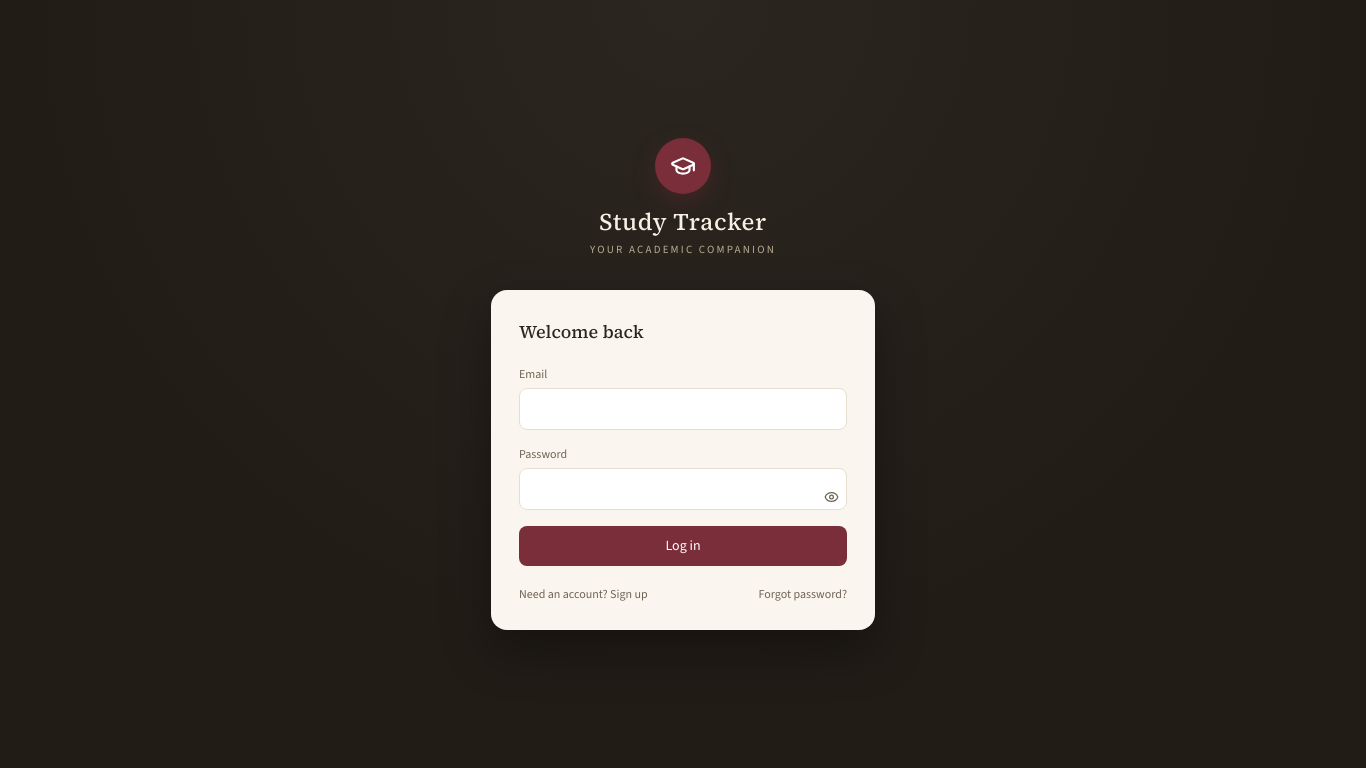
Test case: Migrated Supabase app — smoke test › a newly signed-up student is held on a pending screen until an admin assigns a department
Step 1. Click the button "Need an account? Sign up" → (583, 594), box [519,586,648,602]
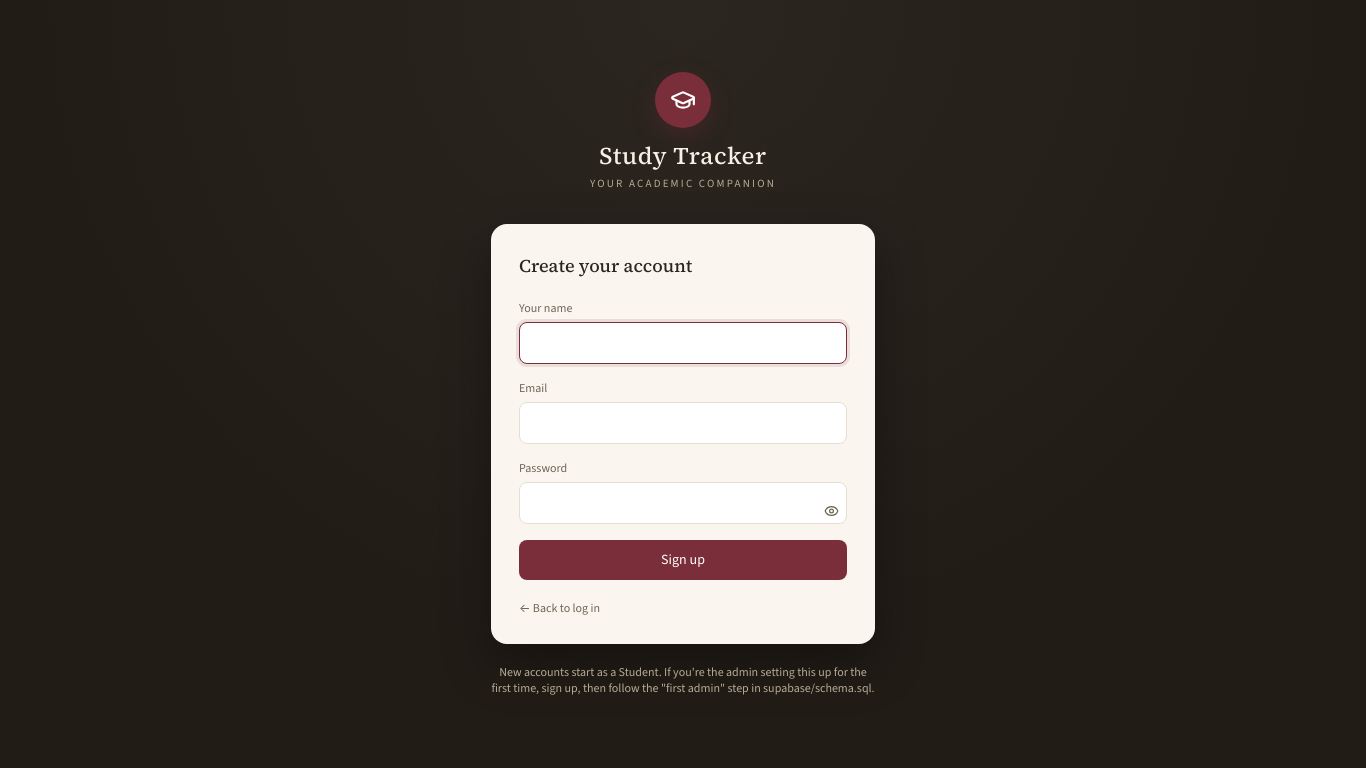
Expected: the text "Your name" is shown, [519,300,572,316]
Step 2. Type "Test Student" into the 1st field → (683, 343), box [519,322,847,364]
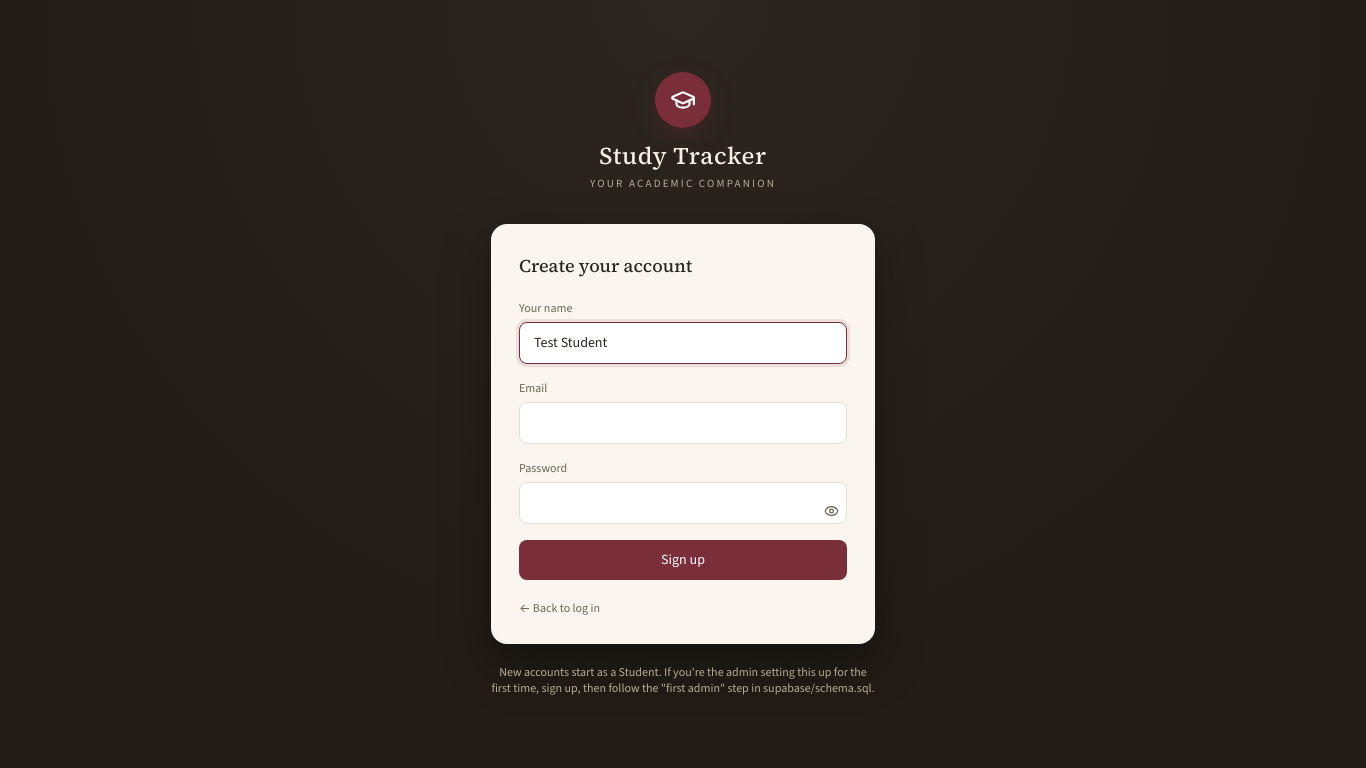
Step 3. Type "student1@example.com" into the 2nd field → (683, 423), box [519,402,847,444]
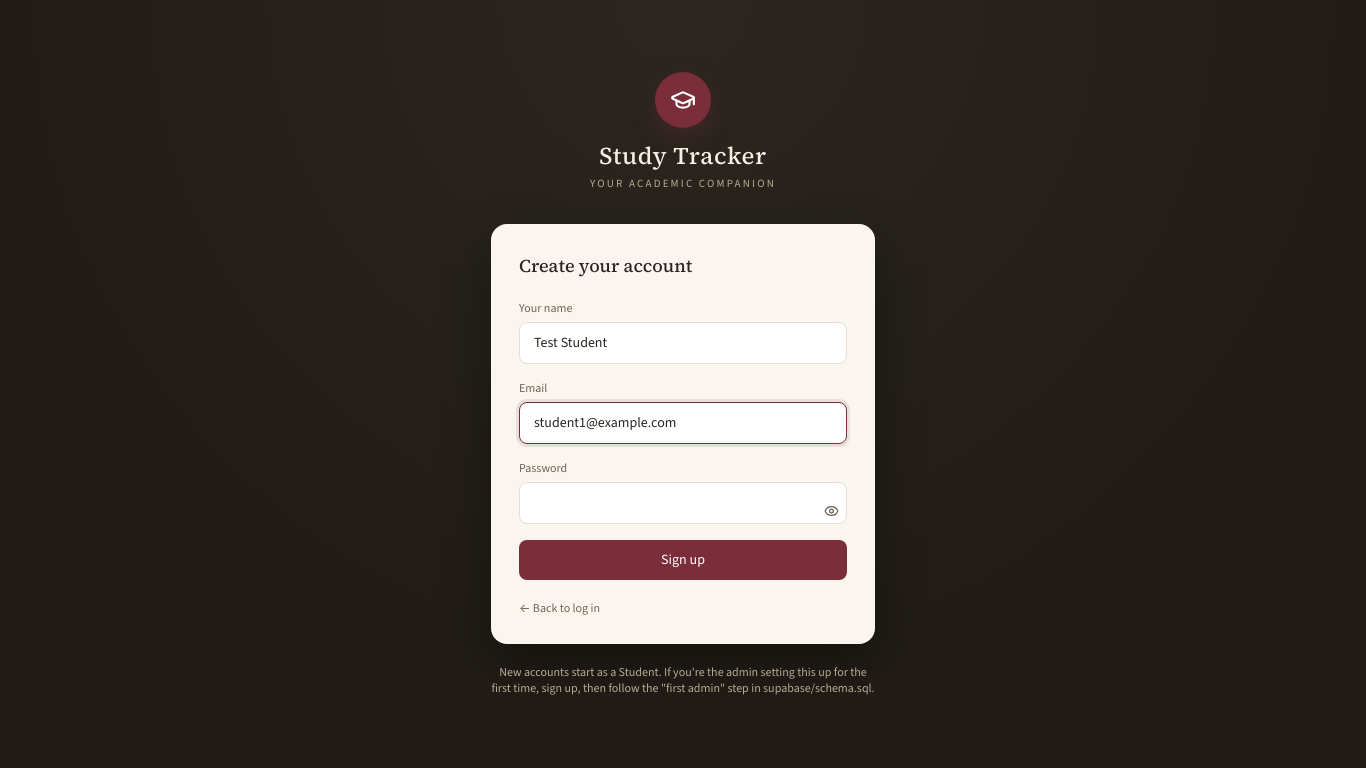
Step 4. Type "password123" into the password field → (683, 503), box [519,482,847,524]
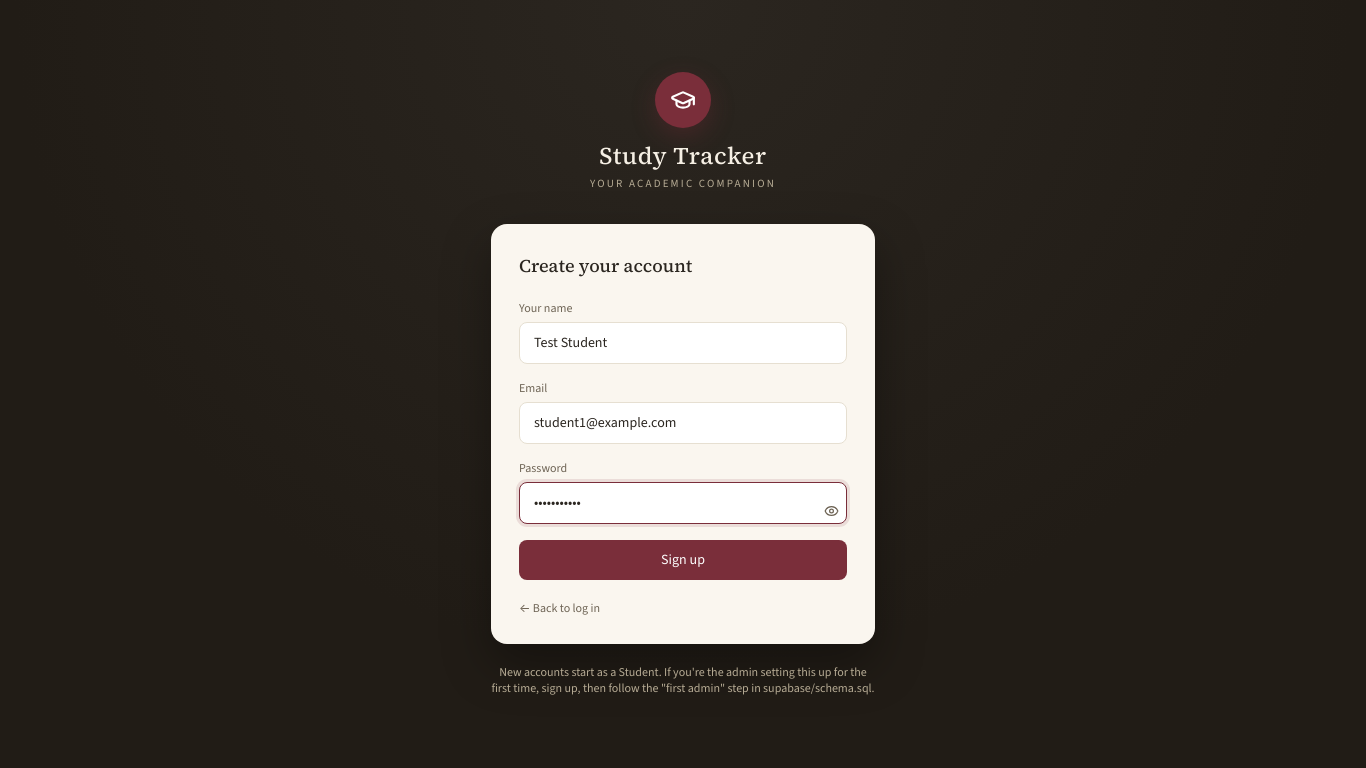
Step 5. Click the button "Sign up" → (683, 560), box [519,540,847,580]
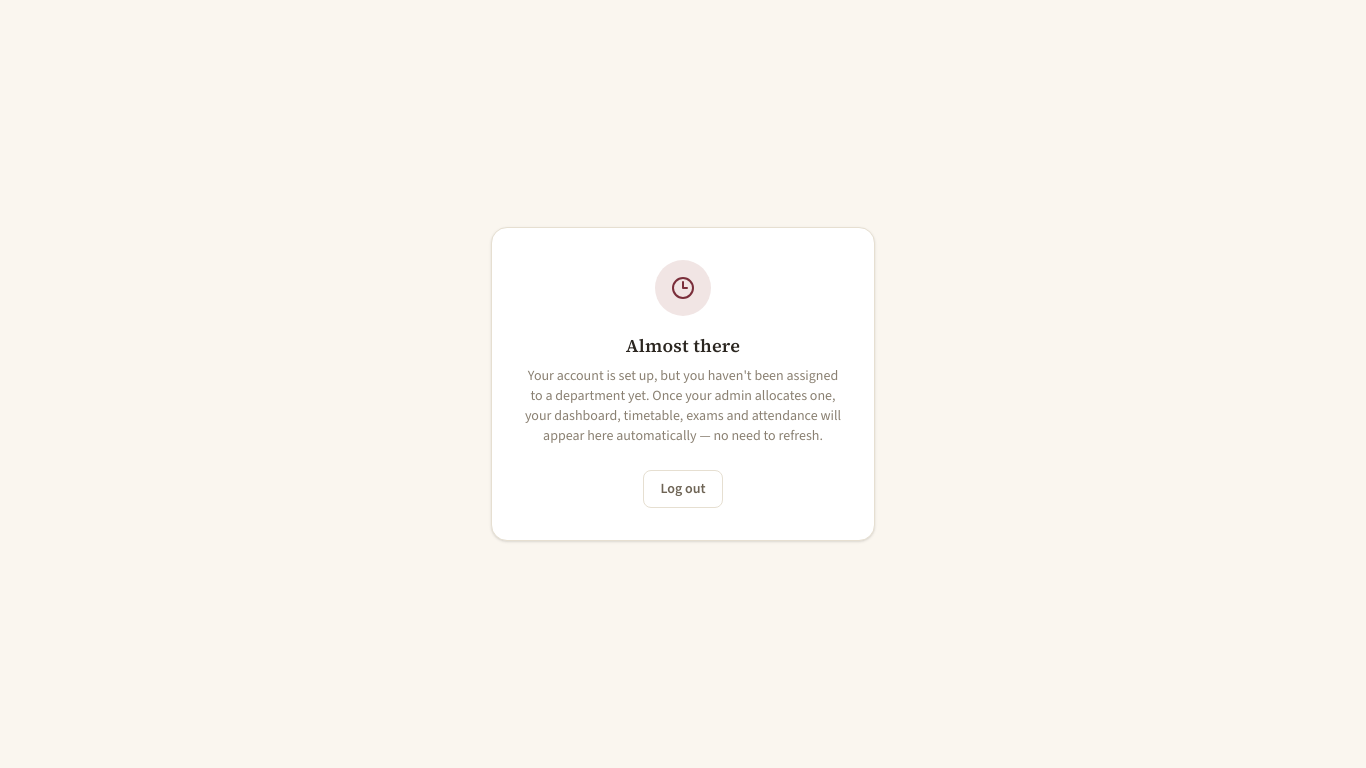
Expected: the text "Almost there" is shown, [626,333,740,358]
